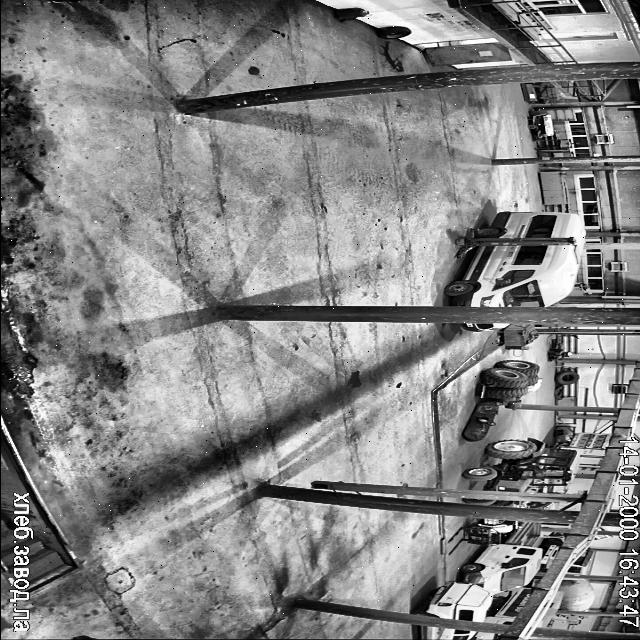car lift: (455, 228, 576, 257)
fire extinguisher: (334, 8, 368, 21)
tractor: (462, 438, 579, 492), (463, 498, 500, 504), (524, 496, 526, 500), (530, 493, 532, 495)
truck: (444, 212, 585, 307), (461, 522, 540, 593), (412, 580, 492, 622), (484, 588, 532, 624), (535, 592, 562, 626), (422, 626, 474, 640), (567, 548, 595, 574), (540, 537, 563, 564), (462, 323, 508, 332), (476, 632, 500, 640)
